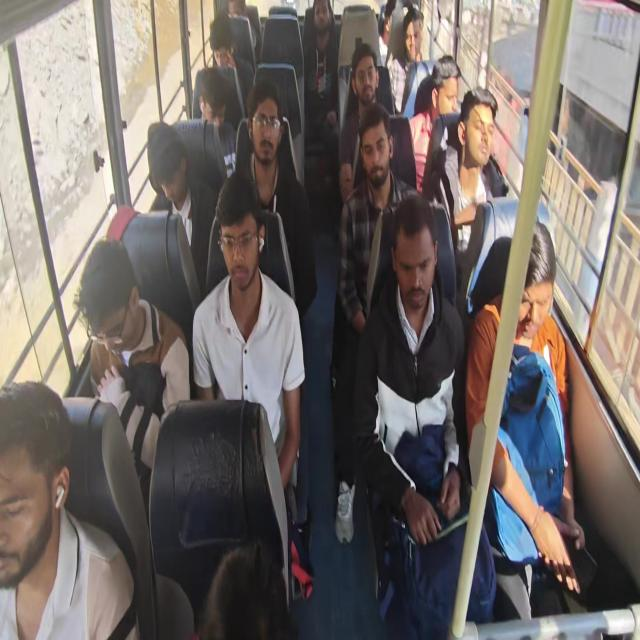person: (0, 372, 72, 588), (502, 219, 560, 348), (78, 249, 141, 364), (215, 195, 268, 298), (394, 200, 432, 326), (145, 125, 194, 211), (247, 97, 284, 174), (358, 115, 394, 187), (194, 69, 229, 139), (466, 92, 496, 166), (430, 62, 460, 123), (206, 21, 236, 76), (354, 59, 381, 106), (308, 0, 332, 42), (403, 13, 423, 59)
